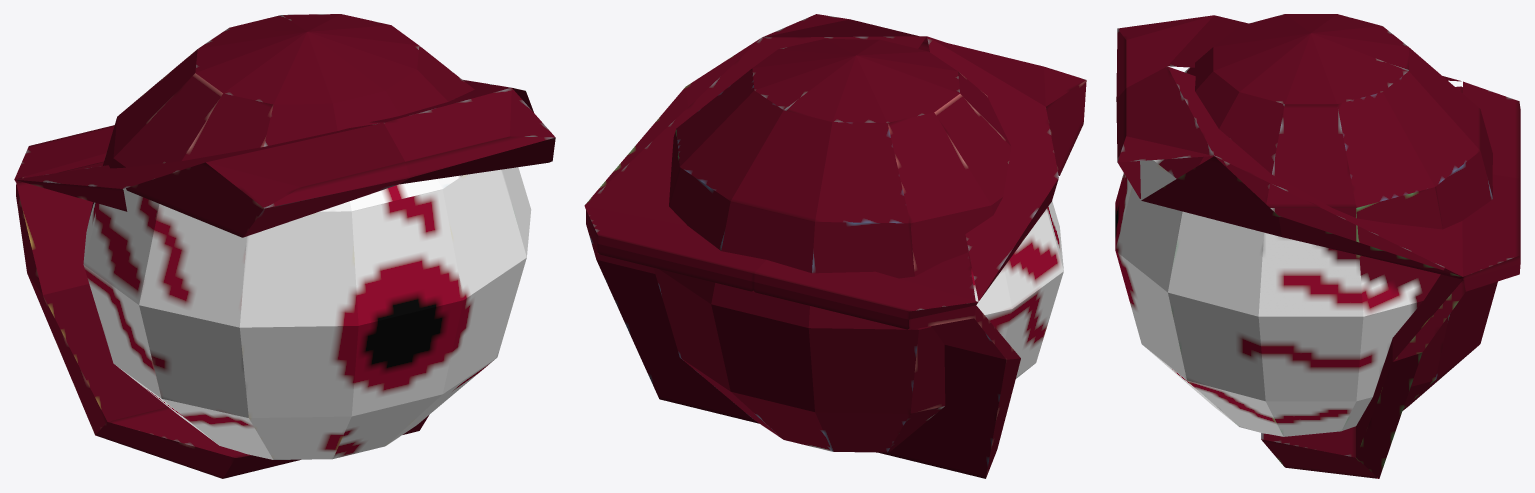
Rendered from WandererHead 1.fbx.
3 views of the same model, side by side, from view 1: azimuth 30°, elevation 25°; view 2: azimuth 150°, elevation 25°; view 3: azimuth 270°, elevation 25° (orthographic). The views are drawn at different scales.
Visible parts, largest first — view 1: sphere, Cube; view 2: sphere, Cube; view 3: sphere, Cube.
Boxes of the visible parts, box(x1,y1,x2,y2) form: sphere: box(83, 14, 531, 459); Cube: box(14, 79, 555, 478); sphere: box(653, 39, 1063, 452); Cube: box(584, 14, 1086, 478); sphere: box(1115, 14, 1497, 436); Cube: box(1116, 15, 1520, 478).
Bounding box in the file's own units: 169 × 151 × 142.
1 material, 1 textured.
